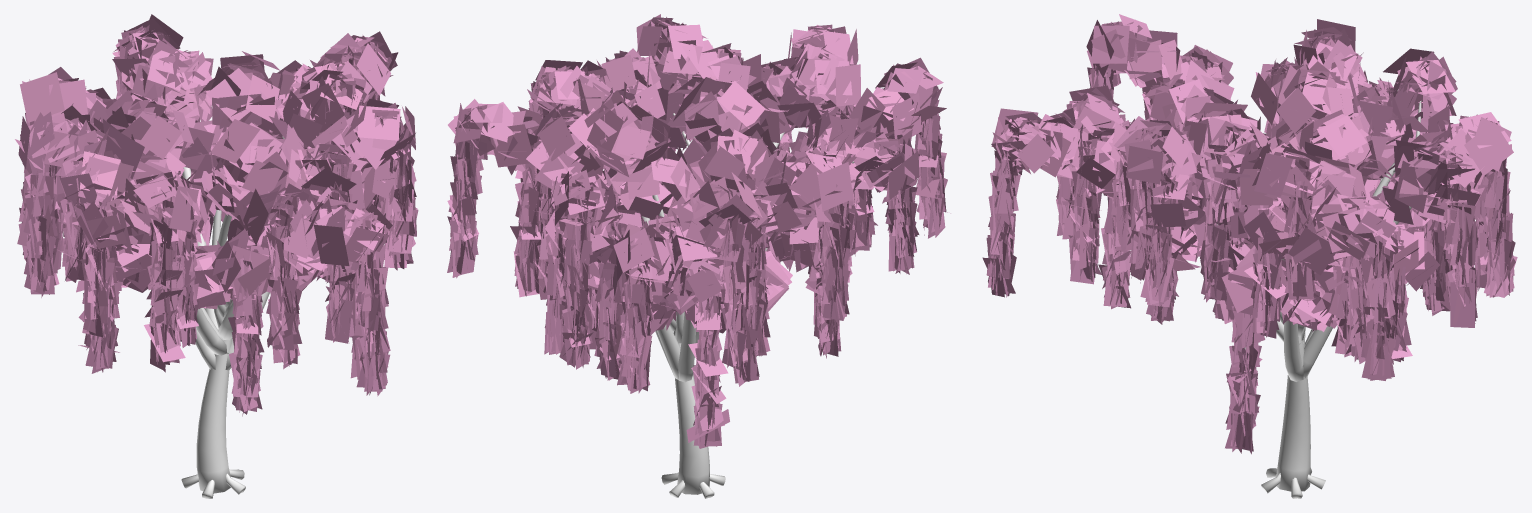
Rendered from SM_Sakura_Weeping_LOD0.fbx.
The picture shows the model from 3 angles, left to right: view 1: azimuth 30°, elevation 25°; view 2: azimuth 150°, elevation 25°; view 3: azimuth 270°, elevation 25°; orthographic projection. The views are drawn at different scales.
Parts seen in each view (by area): view 1: SM_Sakura_Weeping_LOD0; view 2: SM_Sakura_Weeping_LOD0; view 3: SM_Sakura_Weeping_LOD0.
Part boxes in pixels (x1,y1,x2,y2): SM_Sakura_Weeping_LOD0: [15, 14, 418, 498]; SM_Sakura_Weeping_LOD0: [447, 14, 950, 498]; SM_Sakura_Weeping_LOD0: [982, 14, 1517, 498].
Size of what is drawn, in the model's own units: 7.49 by 8.82 by 7.39.
